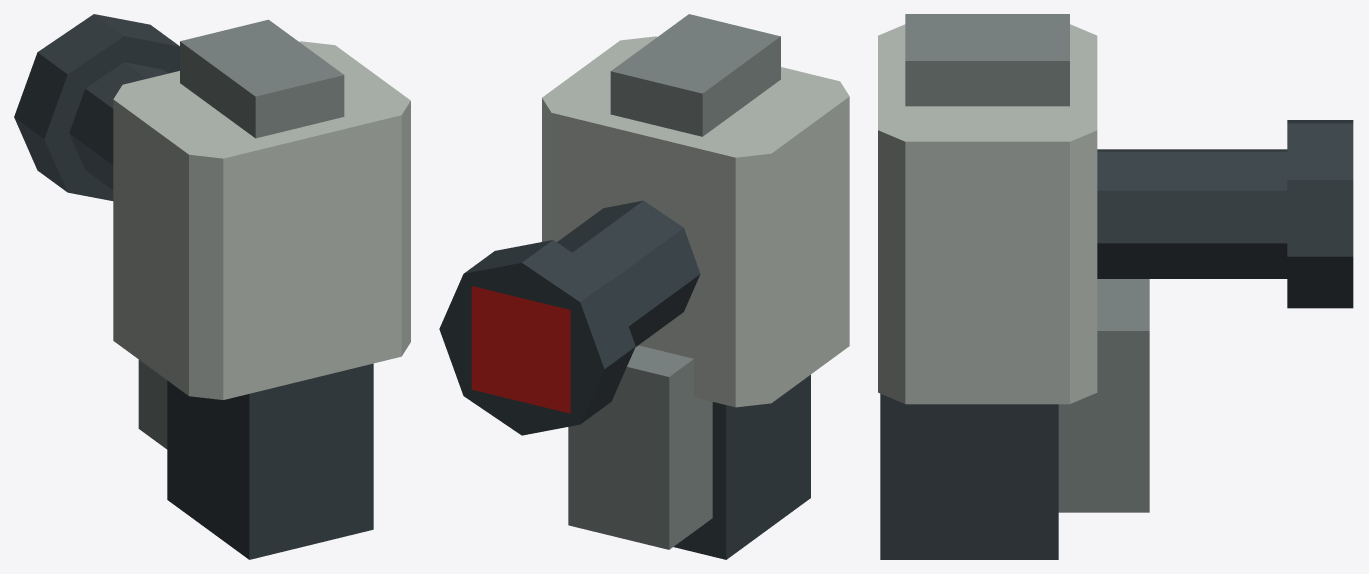
3 views of the same model, side by side, from view 1: azimuth 30°, elevation 25°; view 2: azimuth 150°, elevation 25°; view 3: azimuth 270°, elevation 25° (orthographic). The views are drawn at different scales.
Visible parts, largest first — view 1: mount; view 2: mount; view 3: mount.
Boxes of the visible parts, <box> form: mount: <box>14,14,410,559</box>; mount: <box>439,14,849,559</box>; mount: <box>878,14,1353,559</box>.
Bounding box in the file's own units: 4.88 × 9.46 × 8.35.
